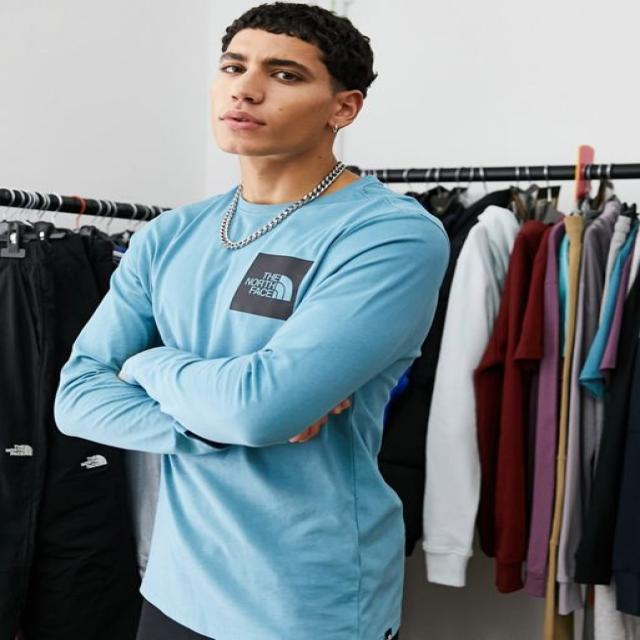tshirt: (53, 173, 449, 636)
